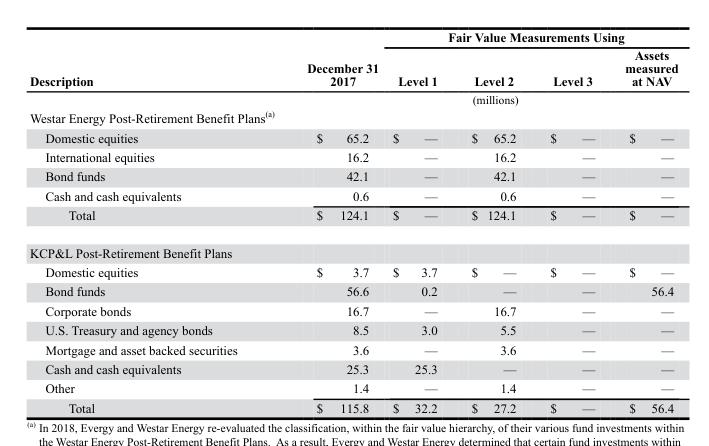table: (28, 29, 677, 414)
table column: (28, 29, 271, 414), (271, 29, 385, 414), (453, 29, 532, 414), (532, 29, 609, 414), (385, 29, 453, 414), (609, 29, 677, 414)
table column header: (28, 29, 677, 107)
table projected row header: (28, 233, 677, 262), (28, 107, 677, 127)
table row: (28, 45, 677, 90), (28, 233, 677, 262), (28, 205, 677, 233), (28, 107, 677, 127), (28, 127, 677, 147), (28, 185, 677, 205), (28, 300, 677, 320), (28, 358, 677, 378), (28, 147, 677, 166), (28, 166, 677, 185), (28, 262, 677, 281), (28, 281, 677, 300), (28, 320, 677, 339), (28, 339, 677, 358), (28, 378, 677, 397), (28, 90, 677, 107), (28, 397, 677, 414), (28, 29, 677, 45)
table spanning cell: (28, 29, 271, 107), (271, 29, 385, 90), (271, 90, 677, 107), (385, 29, 677, 45)
